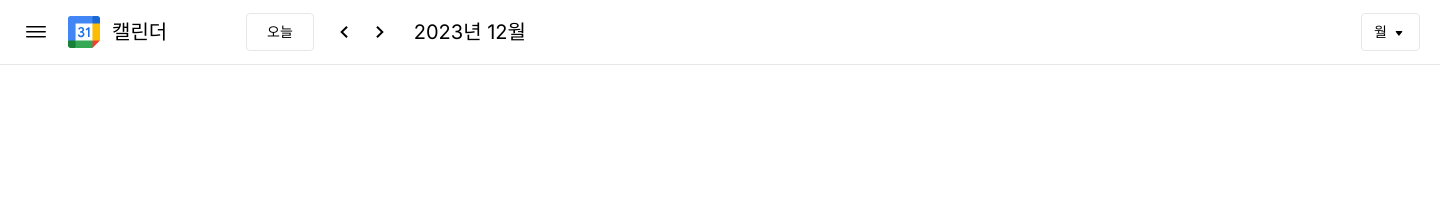
왼쪽 및 오른쪽 버튼 기능 › 월 단위로 선택 후 왼쪽 버튼 클릭 시 전 달 1일로 변경된다.
Note: 왼쪽 버튼 클릭 시 전 달로 이동
Click the button named "left button" at (344,32), box left=326, top=14, right=362, bottom=50
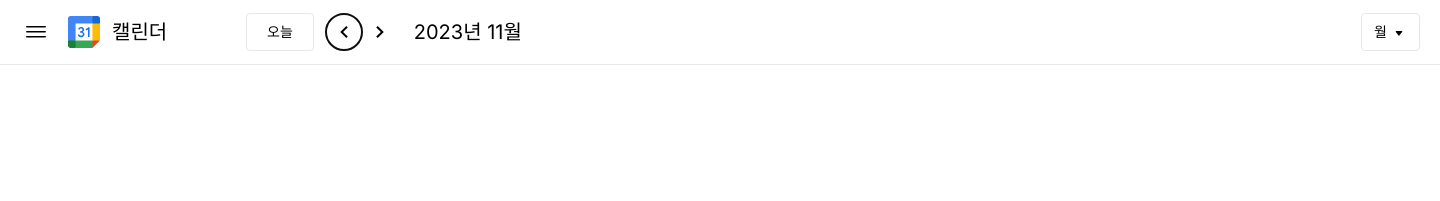
Note: 달력 유닛을 일로 선택
Click the button named "calendar view unit button" at (1391,32), box left=1361, top=13, right=1420, bottom=51
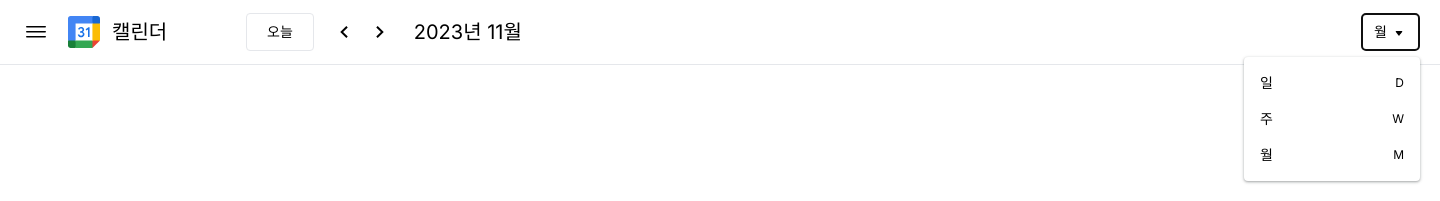
Click the button "일 D" at (1332,83), box left=1244, top=65, right=1420, bottom=101
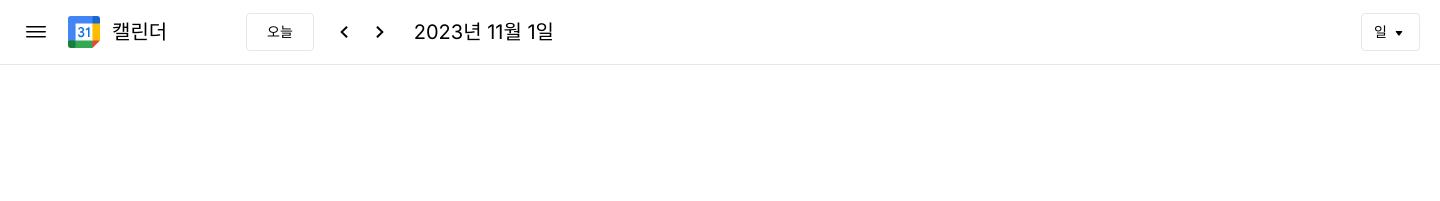
Result: the text named "selected date" reads "2023년 11월 1일" at left=414, top=20, right=554, bottom=44
